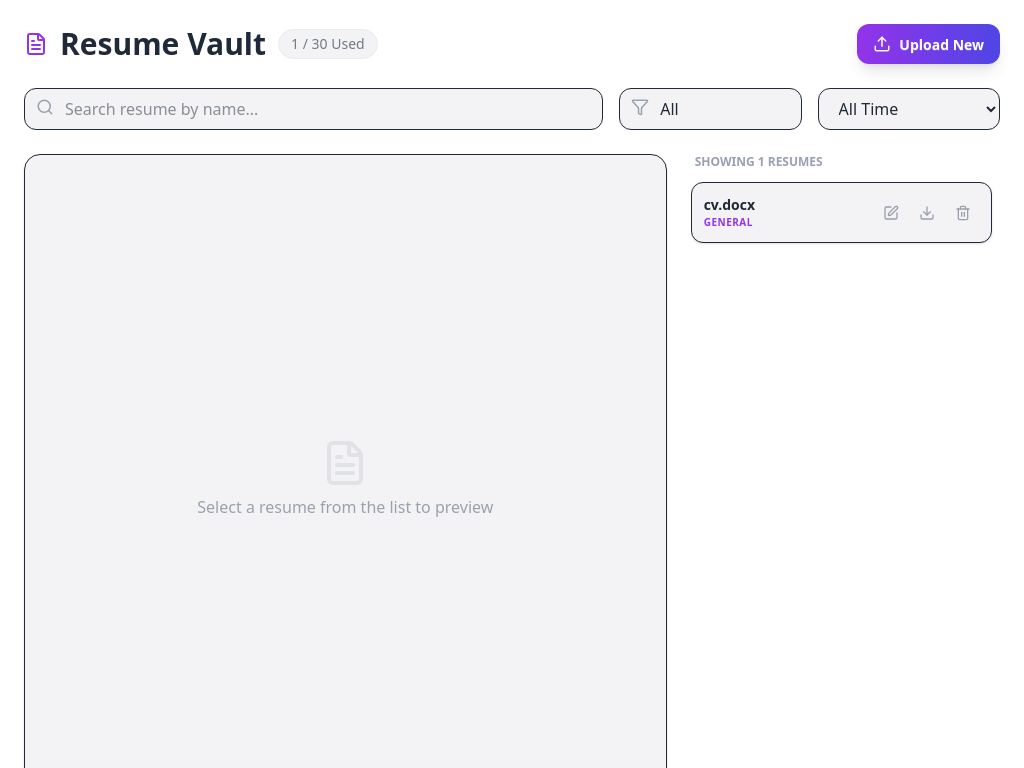
Test: Resume Vault files › renders no Word message or Download button when the previewed resume is gone
The image size is (1024, 768).
Step 1. Click the text "cv.docx" → (729, 204), box [704,195,755,214]
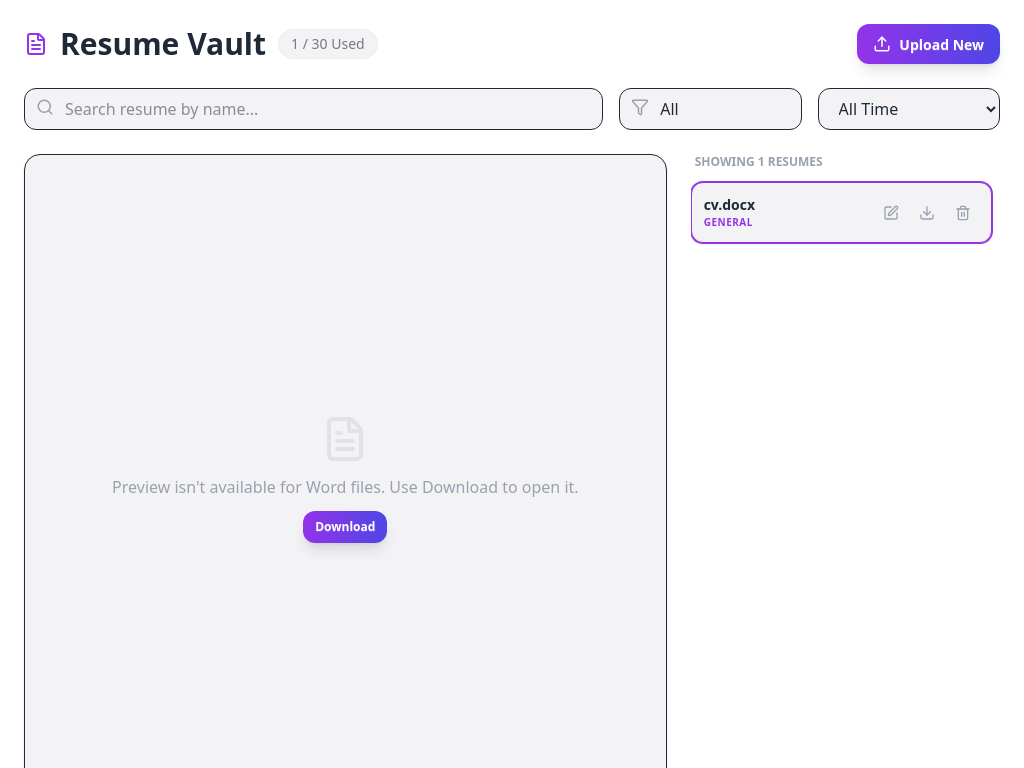
Now the text "Preview isn't available for Word files" is shown, box [112,476,579,498]
Step 2. Click the 4th button → (963, 212), box [947,196,979,228]
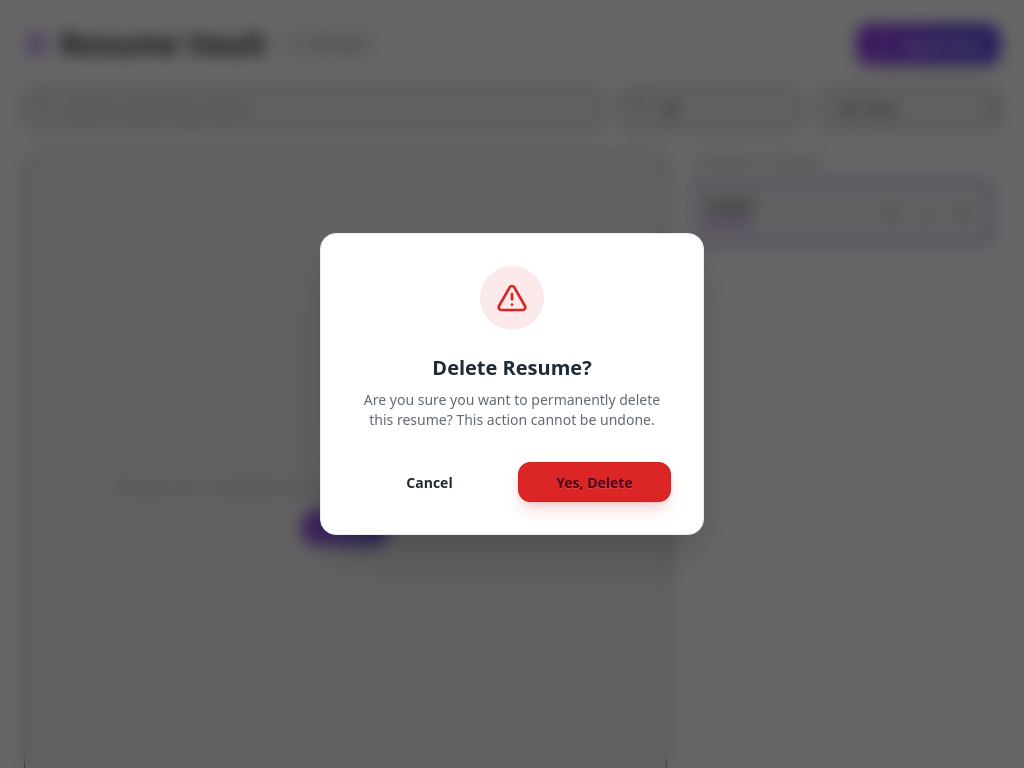
Step 3. Click the button "Yes, Delete" → (594, 482), box [518,462,671,502]
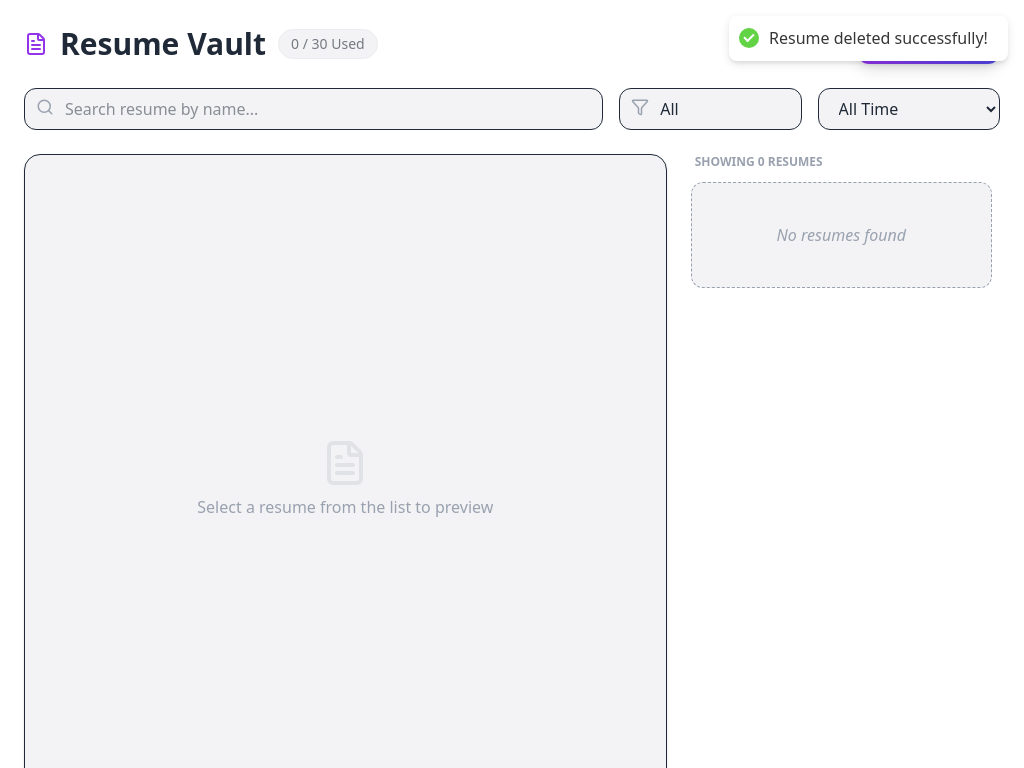
Now the text "cv.docx" is gone
Now the text "Preview isn't available for Word files" is gone
Now the text "Download" is gone
